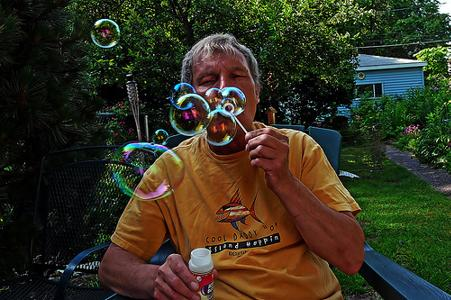person: (95, 33, 369, 296)
